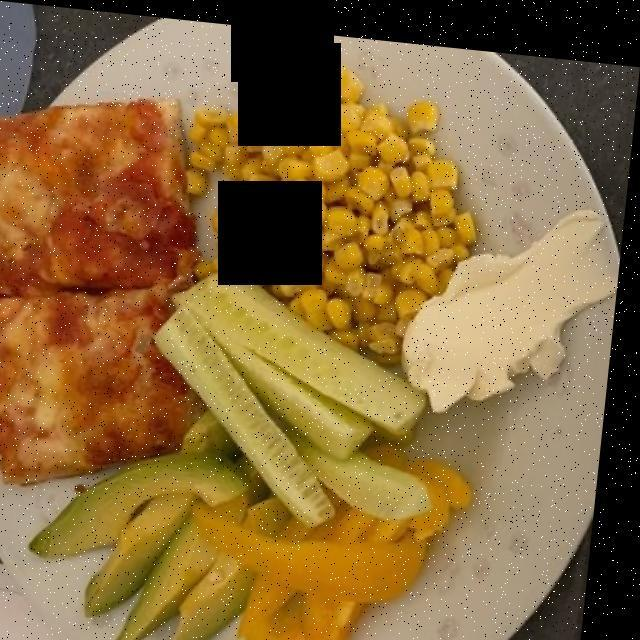avocado: (40, 409, 283, 640)
bell-pepper: (215, 441, 493, 640)
cucumber: (165, 264, 441, 524)
philadelphia: (412, 186, 621, 407)
pizza: (0, 99, 200, 474)
sweet-corn-canned: (198, 60, 480, 336)
